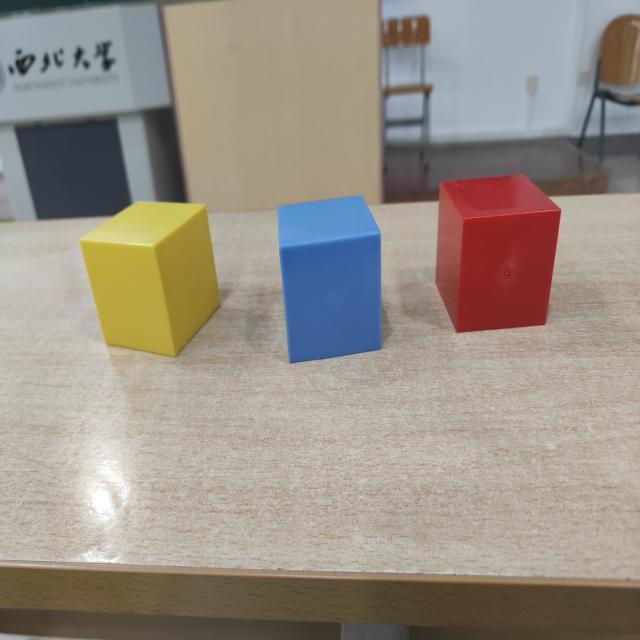blue: (275, 195, 387, 366)
red: (434, 175, 562, 336)
yellow: (79, 202, 222, 360)
